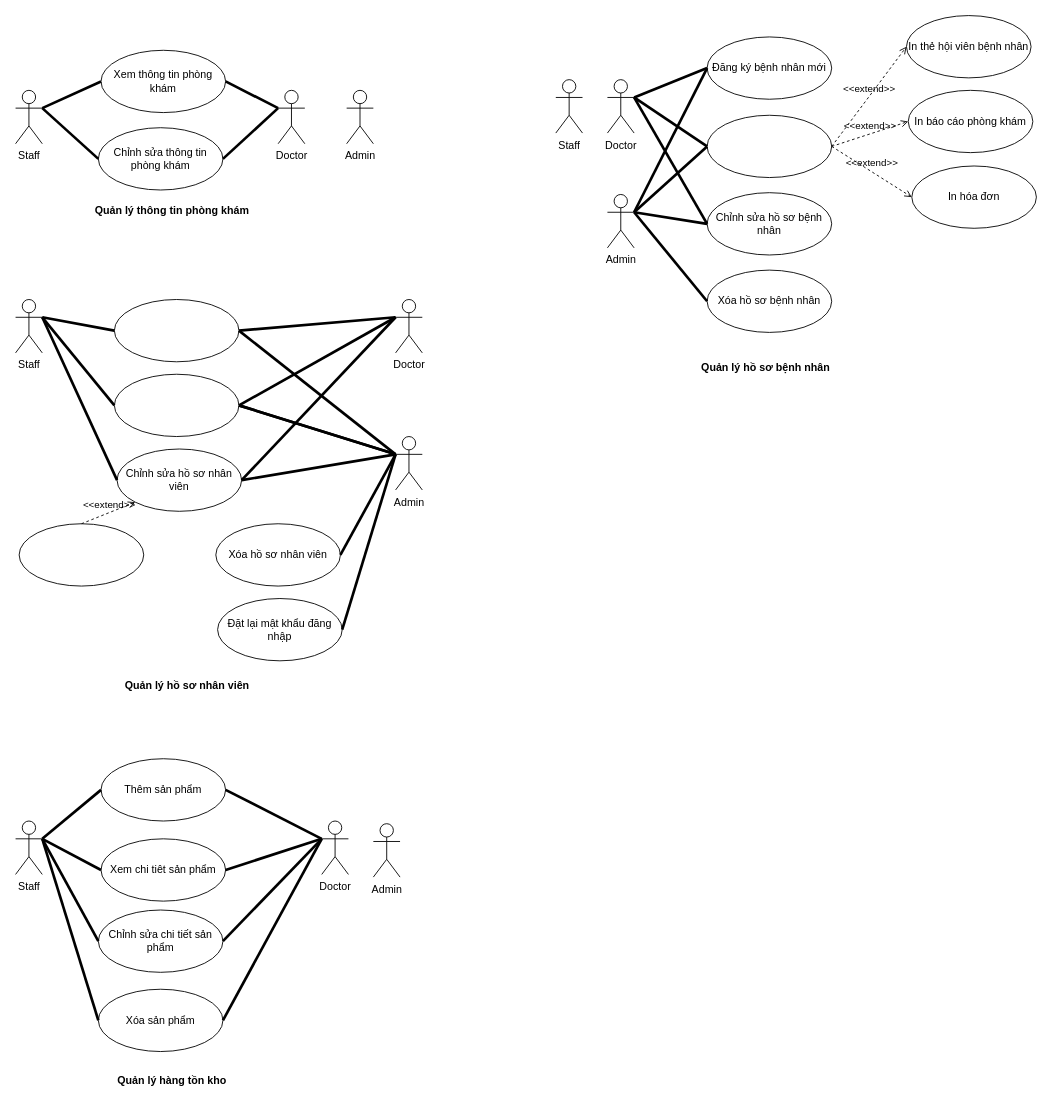
Some shapes in this 1052 by 1107 pixel diagram are drawn without their labels. The shapes that lost their labels are listed below. From the top down, each one's centre as x and y in pixels, then its label:
[769,146]: Xem hồ sơ bệnh nhân
[176,330]: Đăng ký nhân viên mới
[176,405]: Xem hồ sơ nhân viên
[81,554]: Thay đổi mật khẩu
